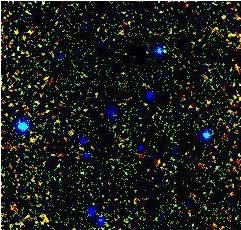star: (18, 125, 48, 155)
